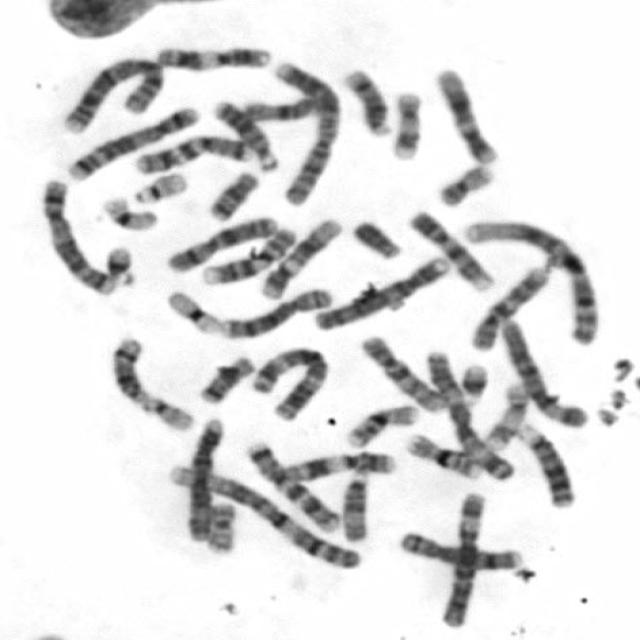A1: (162, 461, 364, 571), (458, 214, 601, 348)
A2: (269, 57, 343, 206), (58, 52, 165, 136)
A3: (419, 346, 515, 482), (246, 343, 330, 422)
B4: (309, 253, 452, 332), (180, 414, 227, 543)
B5: (64, 102, 200, 182), (36, 175, 116, 296)
C10: (464, 260, 550, 353), (356, 331, 448, 415)
C11: (266, 446, 398, 484), (150, 42, 272, 72)
C12: (256, 214, 343, 301), (433, 63, 499, 165)
C6: (498, 316, 590, 429), (435, 488, 488, 628)
C7: (243, 437, 340, 535), (129, 131, 255, 176)
C8: (214, 284, 335, 340), (394, 527, 524, 571)
C9: (405, 206, 495, 293), (197, 223, 298, 286)
D13: (514, 418, 576, 509), (209, 96, 279, 172)
D14: (338, 64, 393, 139), (110, 337, 149, 404)
D15: (335, 470, 373, 543), (244, 94, 320, 122)
E16: (402, 429, 482, 480), (340, 401, 419, 449)
E17: (483, 382, 533, 452), (386, 88, 424, 164)
E18: (194, 351, 256, 404), (202, 168, 260, 223)
F19: (163, 287, 221, 336), (98, 192, 160, 232)
F20: (434, 161, 498, 207), (204, 499, 242, 554)
G21: (100, 241, 137, 288), (455, 359, 491, 402)
G22: (136, 392, 195, 432), (129, 168, 191, 205)
X: (162, 212, 280, 274)
Y: (347, 215, 404, 261)
